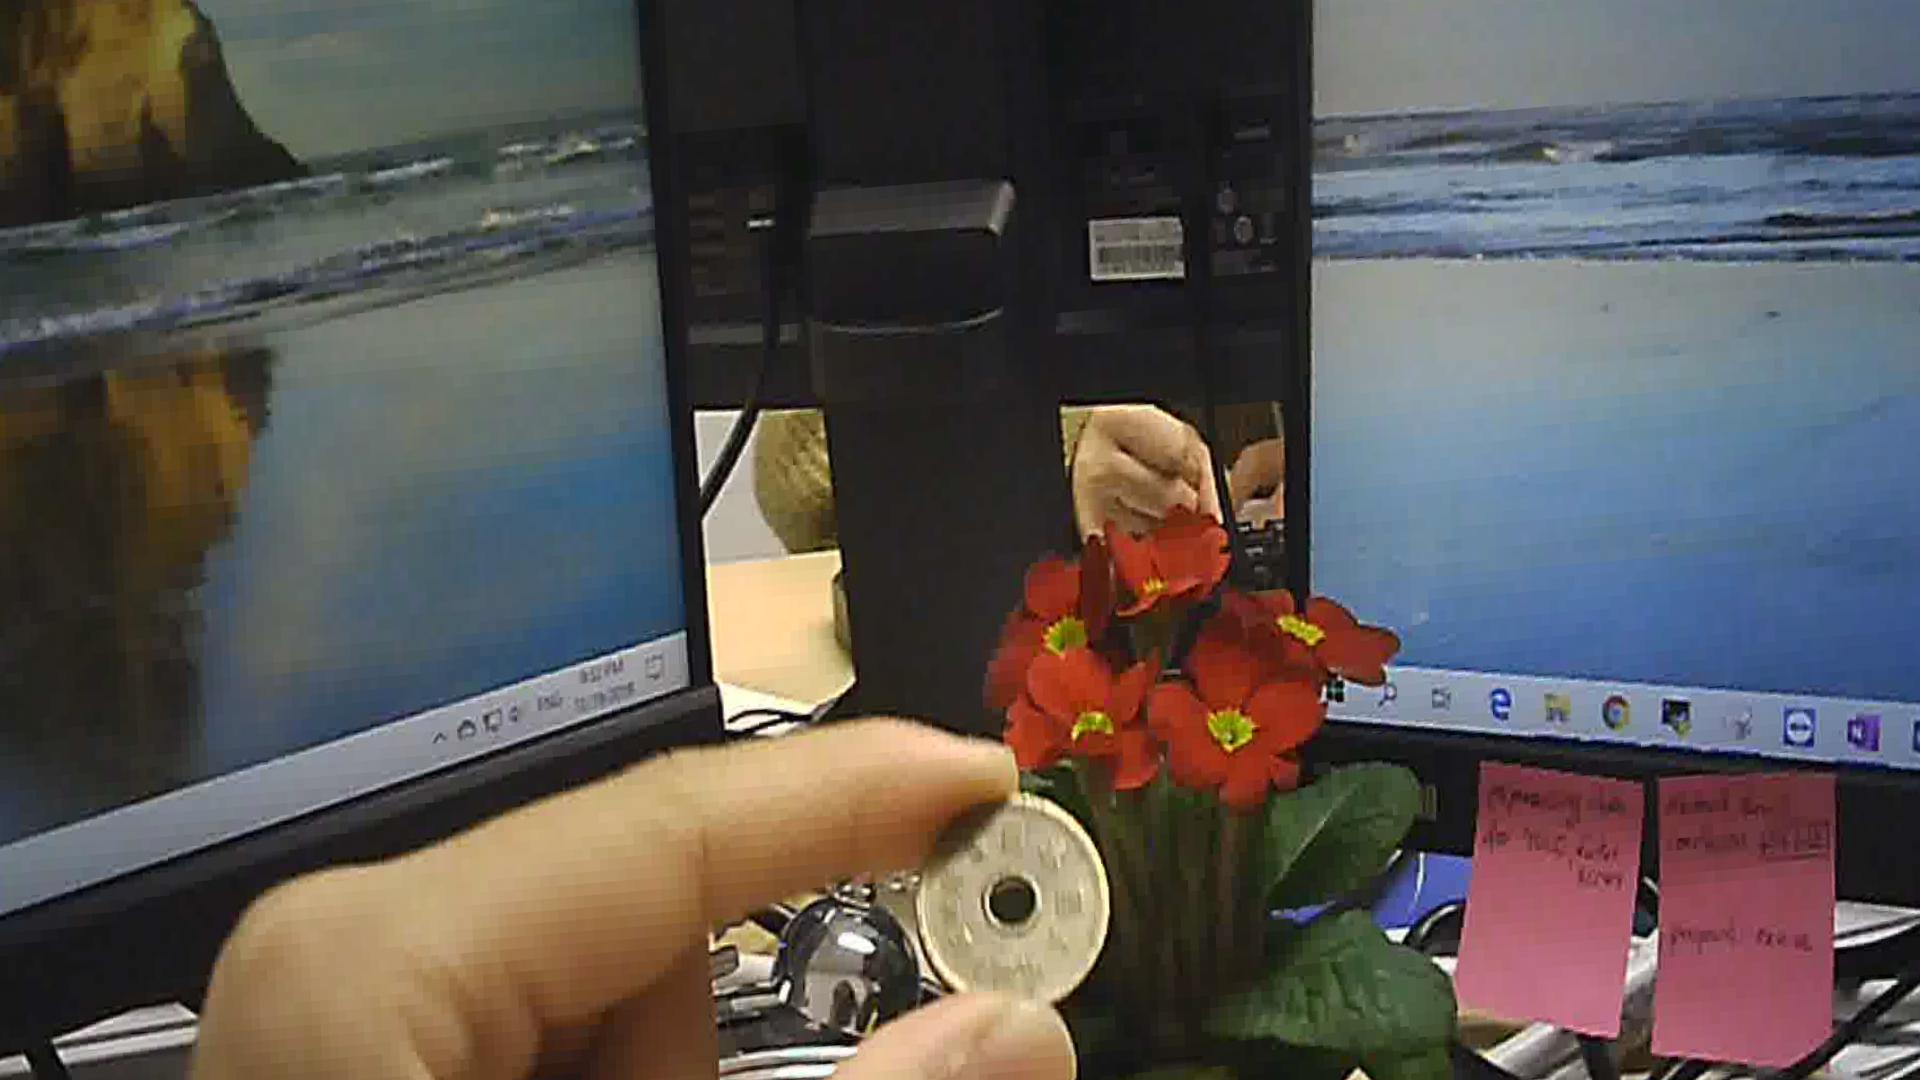5 Yen: (899, 795, 1104, 1000)
